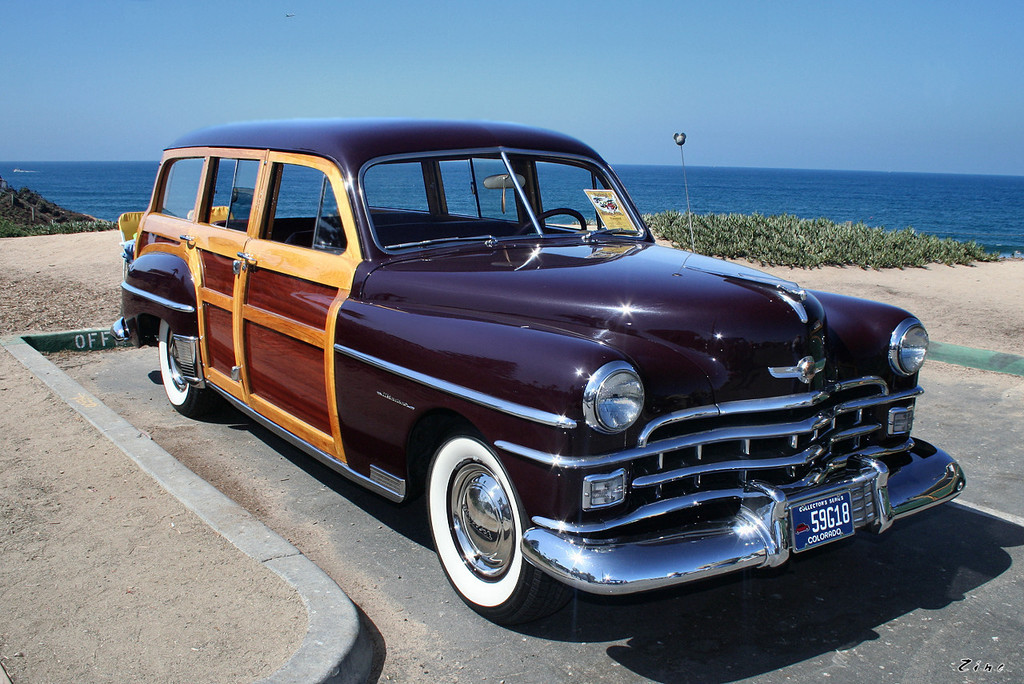Car: (122, 134, 969, 614)
